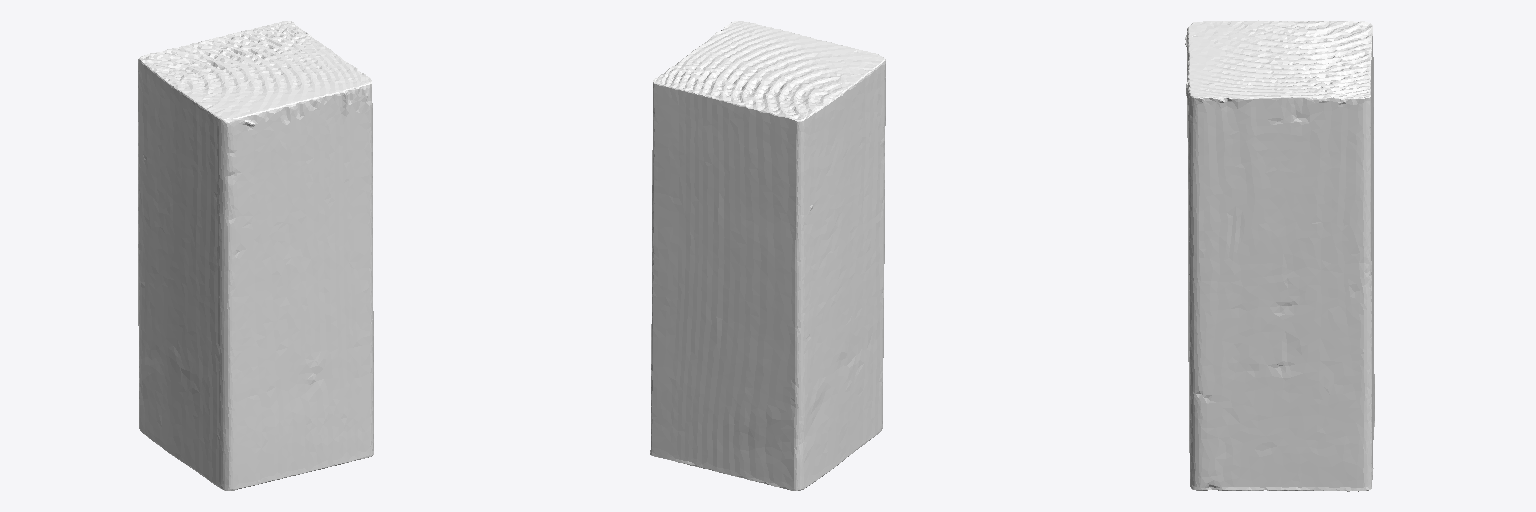
URDF robot description (baseball):
<robot name="baseball">
	<link name="base_link">
		<visual>
			<origin xyz="0.009947985025210358 0.04811623557140466 -0.03592664752018525" rpy="0.0 0.0 0.0" />
			<geometry>
				<mesh filename="055_baseball/google_16k/textured.obj" scale="1 1 1" />
			</geometry>
			<material name="texture">
				<color rgba="1.0 1.0 1.0 1.0" />
			</material>
		</visual>
		<collision>
			<origin xyz="0.009947985025210358 0.04811623557140466 -0.03592664752018525" rpy="0.0 0.0 0.0" />
			<geometry>
				<mesh filename="055_baseball/google_16k/textured_vhacd.obj" scale="1 1 1" />
			</geometry>
		</collision>
		<inertial>
			<mass value="0.138" />
			<inertia ixx="1e-3" ixy="0.0" ixz="0.0" iyy="1e-3" iyz="0.0" izz="1e-3" />
		</inertial>
	</link>
</robot>

--- What the picture shows (computed from the rendered views, not written in the file) ---
3 views of the same robot in one strip: view 1: azimuth 30°, elevation 25°; view 2: azimuth 150°, elevation 25°; view 3: azimuth 270°, elevation 25° (orthographic).
Model baseball with 1 links and 0 joints (none), rooted at base_link, posed every joint at zero.
Visible links, largest first — view 1: base_link; view 2: base_link; view 3: base_link.
Link boxes in pixels (x1=…): base_link: x1=138, y1=21, x2=373, y2=490; base_link: x1=650, y1=21, x2=885, y2=490; base_link: x1=1185, y1=20, x2=1374, y2=491.
Size in the robot's own frame: 0.0906 by 0.0899 by 0.206 metres.
1 mesh visuals loaded from 1 distinct referenced files (1 OBJ).